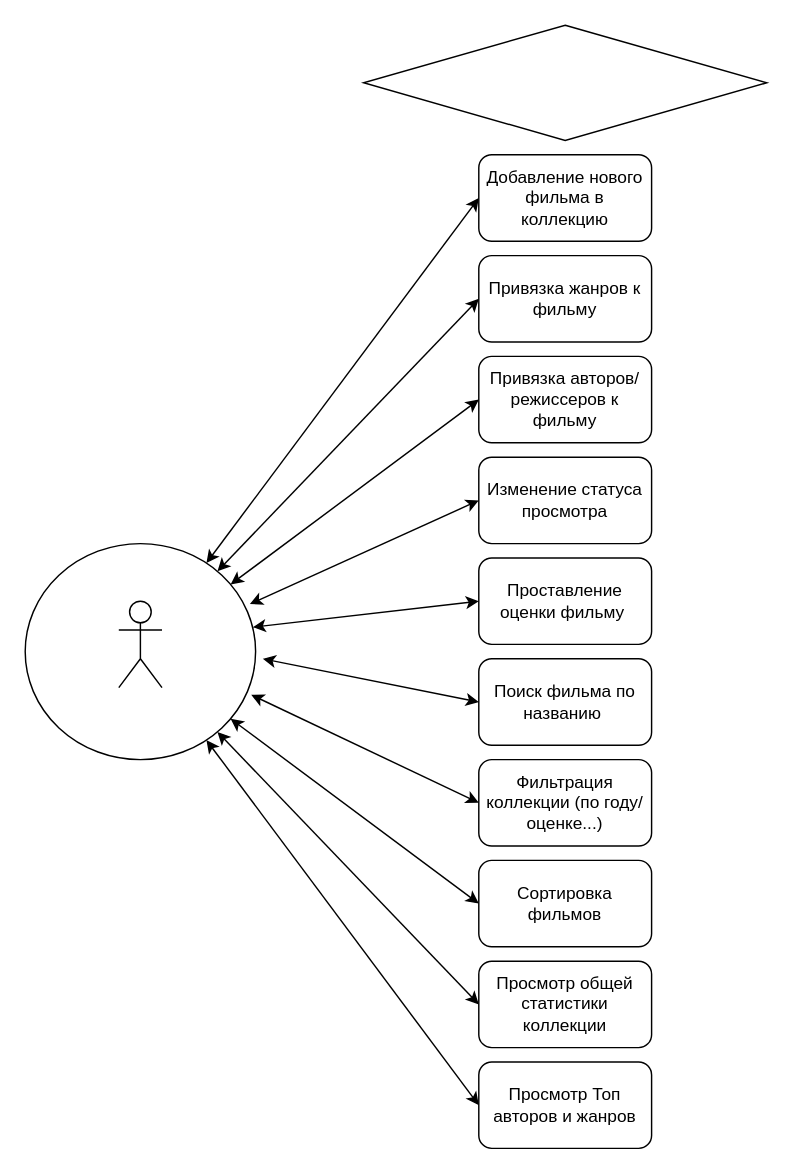
Image size: 792x1174. Some labels were removed from this diagram. The centre of each missing label's shape, as x and y in pixels:
ПОЛЬЗОВАТЕЛЬ: [139,644]
Система «Менеджер личной коллекции фильмов»: [564,82]
